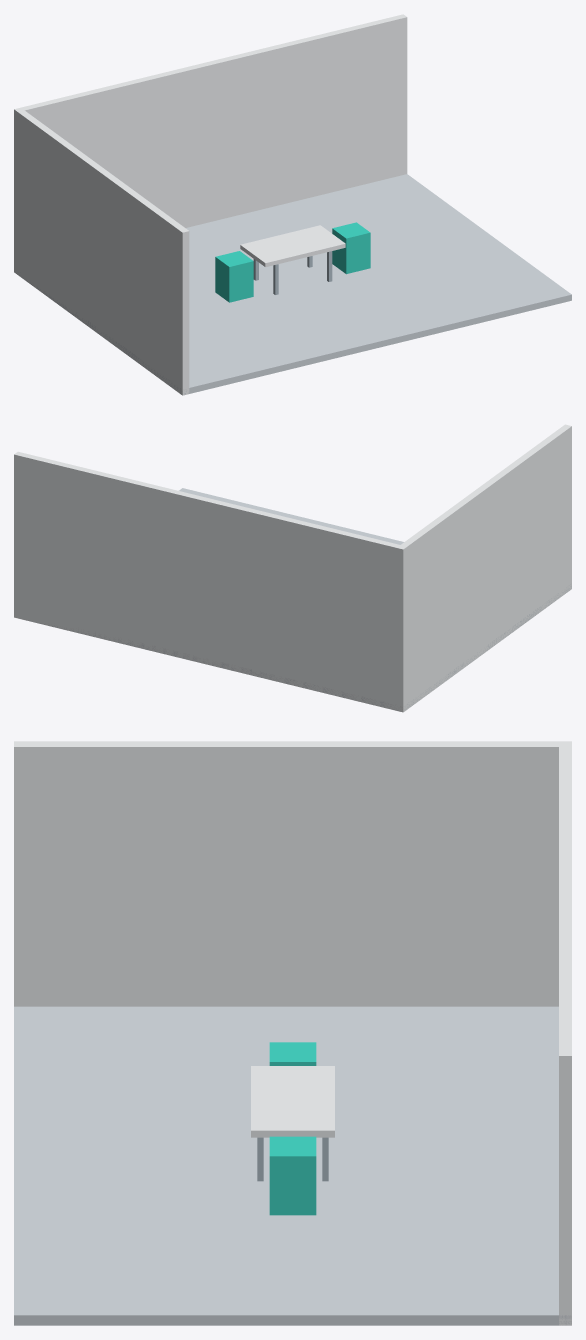
3 renders of one model, top to bottom at view 1: azimuth 30°, elevation 25°; view 2: azimuth 150°, elevation 25°; view 3: azimuth 270°, elevation 25°, orthographic. The views are drawn at different scales.
Visible parts, largest first — view 1: Exhibition Booth Concept; view 2: Exhibition Booth Concept; view 3: Exhibition Booth Concept.
Part boxes in pixels (x1,y1,x2,y2): Exhibition Booth Concept: (14,14,571,395); Exhibition Booth Concept: (14,424,571,712); Exhibition Booth Concept: (14,741,571,1325).
Size of the model in its own units: 8 by 3.2 by 6.
